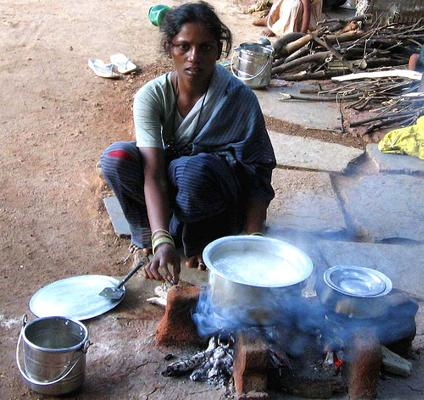person: (98, 3, 275, 286)
